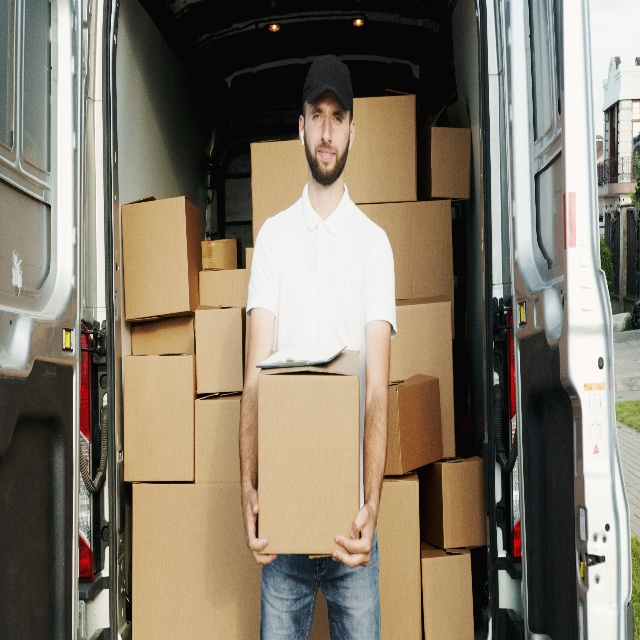Sin_guantes: (332, 502, 377, 569), (243, 486, 277, 565)
